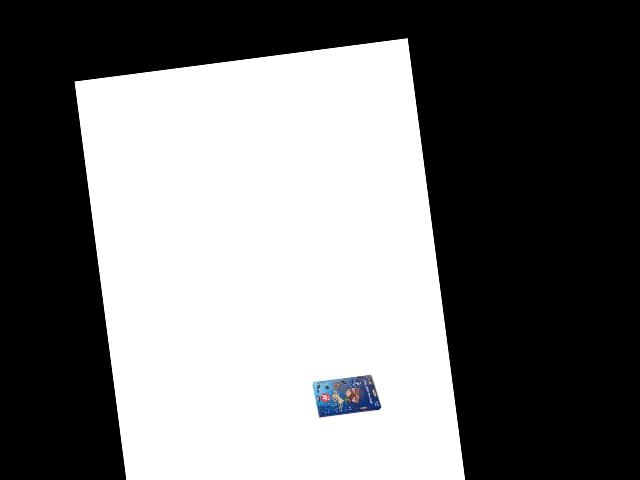chocolate: (310, 369, 382, 422)
